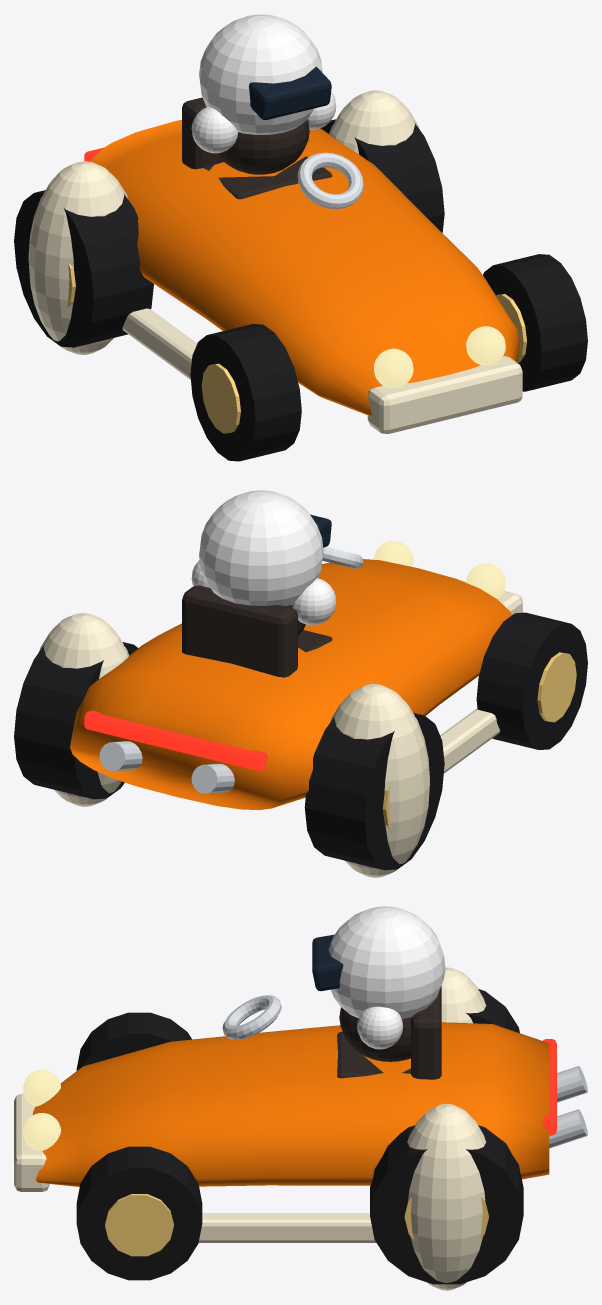
File: kart0.glb
3 views of the same model, one above another, from view 1: azimuth 30°, elevation 25°; view 2: azimuth 150°, elevation 25°; view 3: azimuth 270°, elevation 25° (orthographic). The views are drawn at different scales.
Parts seen in each view (by area): view 1: Body, TireRR, TireFR, Head, TireFL, Fender.001, Bumper, TireRL, Fender, Torso, Visor, Skirt.001 (+9 smaller); view 2: Body, TireRR, Head, TireFR, TireRL, Fender.001, SeatBack, Fender, TailBar, HubFR, Skirt.001, ShR (+6 smaller); view 3: Body, Fender, TireFL, TireRL, Head, Skirt, TireFR, HubFL, SeatBack, Bumper, Fender.001, WheelSteer (+10 smaller).
Part boxes in pixels (<box>): Body: <box>89,119,519,415</box>; TireRR: <box>14,190,153,347</box>; TireFR: <box>190,324,301,461</box>; Head: <box>199,14,322,134</box>; TireFL: <box>483,254,587,391</box>; Fender.001: <box>28,161,127,354</box>; Bumper: <box>367,356,522,433</box>; TireRL: <box>320,119,444,232</box>; Fender: <box>329,90,419,154</box>; Torso: <box>217,119,309,174</box>; Visor: <box>248,66,331,119</box>; Skirt.001: <box>122,308,197,379</box>; Body: <box>70,559,511,810</box>; TireRR: <box>304,713,444,870</box>; Head: <box>199,490,323,606</box>; TireFR: <box>476,612,587,749</box>; TireRL: <box>14,642,138,799</box>; Fender.001: <box>330,684,429,877</box>; SeatBack: <box>182,585,297,677</box>; Fender: <box>38,613,129,806</box>; TailBar: <box>84,710,267,770</box>; HubFR: <box>537,652,576,722</box>; Skirt.001: <box>440,708,499,773</box>; ShR: <box>292,578,336,625</box>; Body: <box>32,1022,549,1186</box>; Fender: <box>407,1103,486,1290</box>; TireFL: <box>76,1146,202,1280</box>; TireRL: <box>370,1125,523,1284</box>; Head: <box>328,906,445,1019</box>; Skirt: <box>198,1213,376,1242</box>; TireFR: <box>76,1012,191,1070</box>; HubFL: <box>105,1194,173,1256</box>; SeatBack: <box>411,985,441,1079</box>; Bumper: <box>14,1093,49,1191</box>; Fender.001: <box>441,967,486,1023</box>; WheelSteer: <box>222,995,281,1039</box>.
Size of the model in its own units: 1.69 by 1.32 by 2.24.
